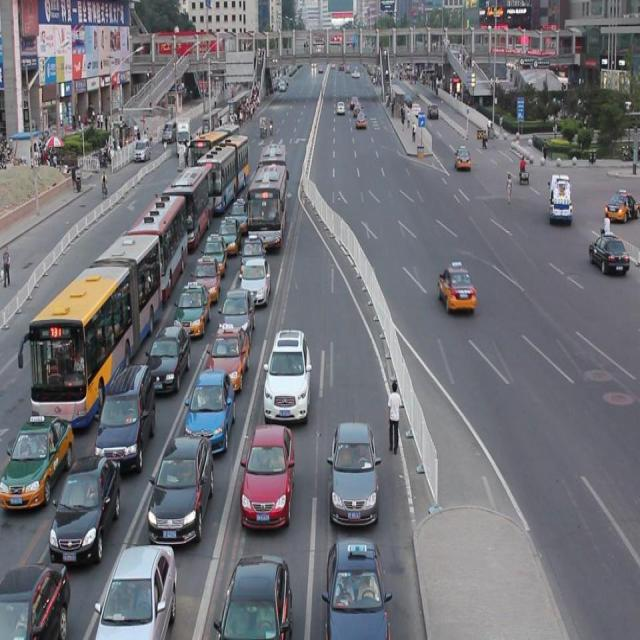BigCar: (42, 231, 141, 385), (137, 174, 190, 274), (207, 115, 249, 192), (171, 141, 209, 226), (259, 144, 283, 234)
car: (306, 427, 390, 520), (154, 434, 217, 546), (96, 546, 168, 640), (263, 314, 321, 422), (214, 544, 278, 640), (328, 538, 390, 628), (0, 557, 63, 640), (104, 372, 148, 475), (244, 415, 292, 507), (9, 402, 43, 516), (192, 366, 238, 448), (70, 458, 98, 567), (155, 308, 184, 402), (440, 265, 477, 320), (588, 224, 623, 276), (548, 170, 577, 232), (241, 249, 272, 299)
